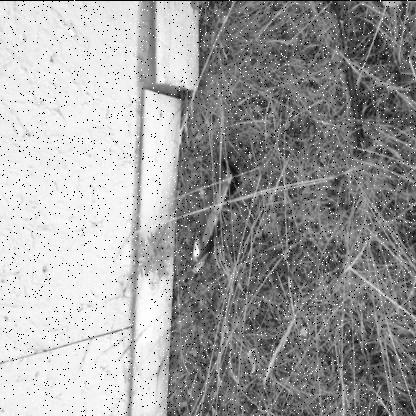glass: (188, 160, 235, 277)
